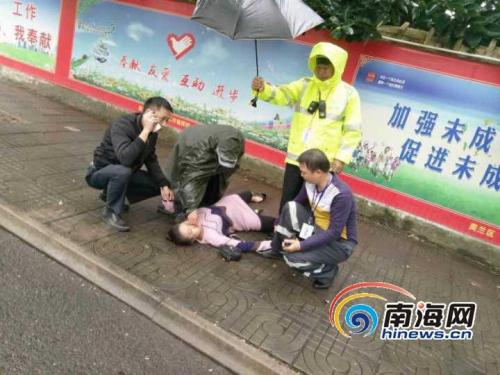fall: (157, 183, 291, 264)
